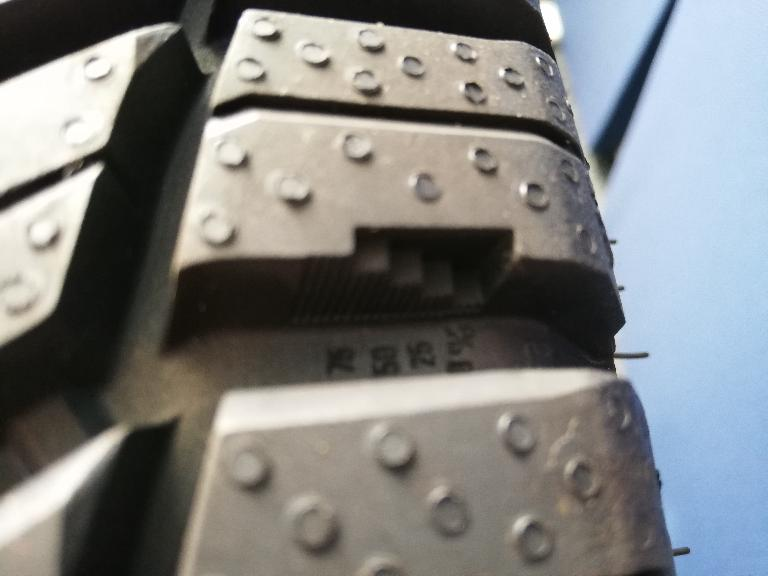temoin:100: (294, 218, 523, 324)
